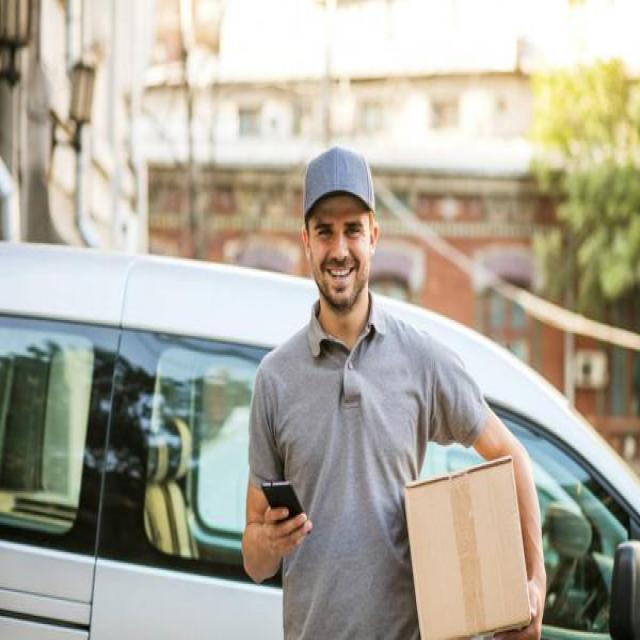box: (403, 446, 536, 640)
